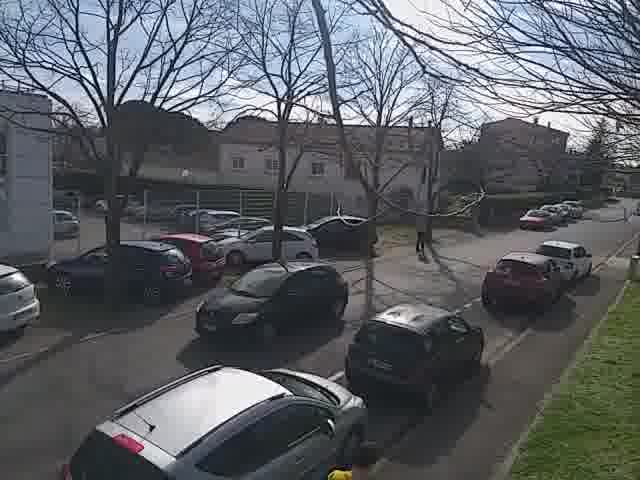persona: (411, 203, 431, 254)
